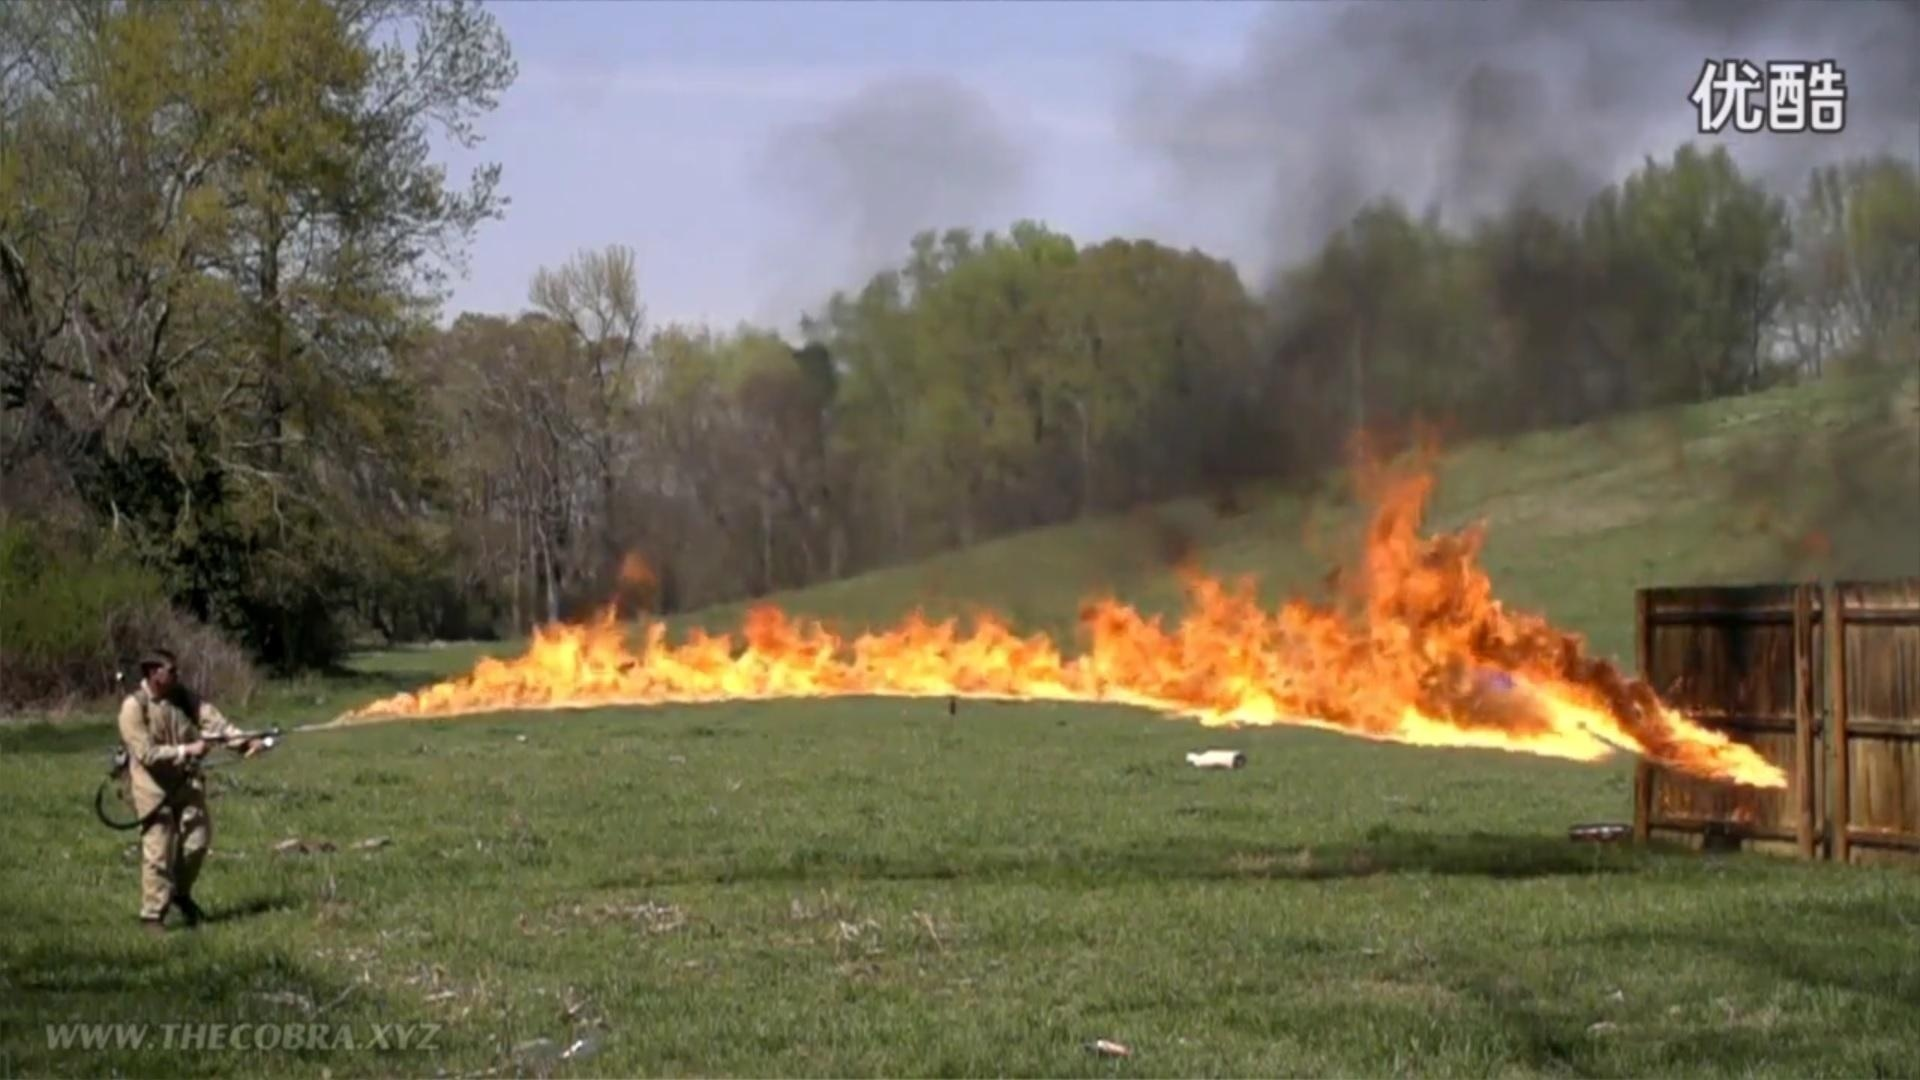fire: (280, 488, 1793, 811)
